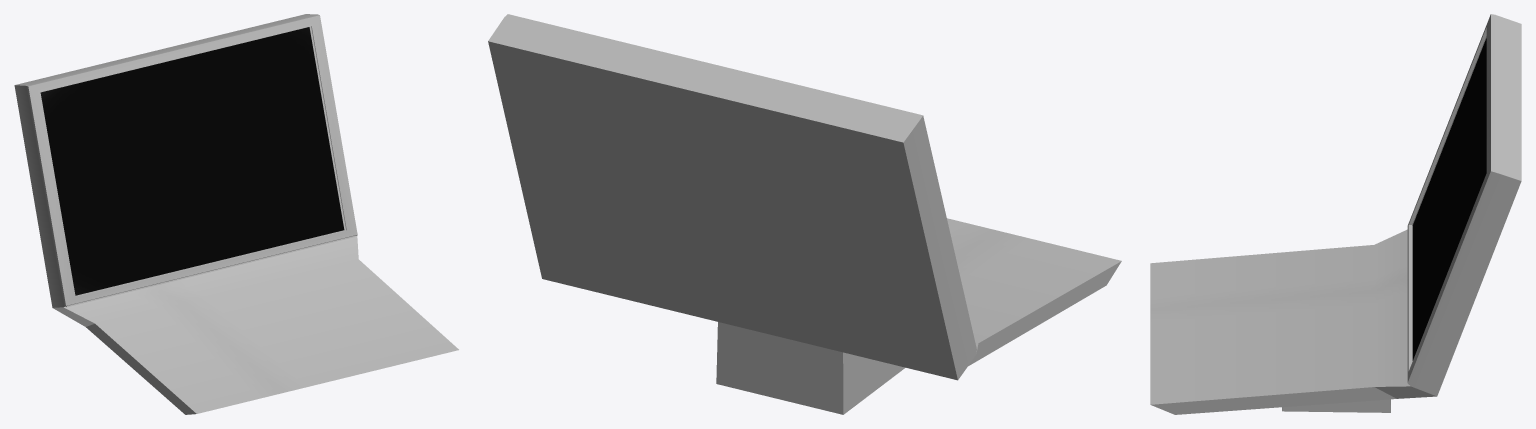
File: laptop.fbx
3 renders of one model, left to right at view 1: azimuth 30°, elevation 25°; view 2: azimuth 150°, elevation 25°; view 3: azimuth 270°, elevation 25°, orthographic. The views are drawn at different scales.
Visible parts, largest first — view 1: laptop; view 2: laptop; view 3: laptop.
Part boxes in pixels (left/top/right/bottom): laptop: left=14, top=14, right=458, bottom=414; laptop: left=488, top=14, right=1121, bottom=414; laptop: left=1150, top=14, right=1521, bottom=414.
Bounding box in the file's own units: 0.995 × 0.8763 × 1.01.
